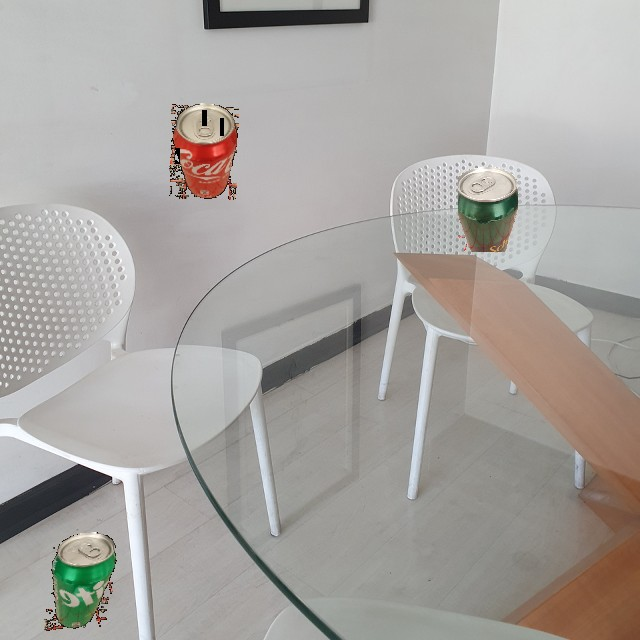coca cola: (169, 103, 239, 200)
schweppes: (458, 167, 518, 252)
sprite: (44, 531, 120, 631)
